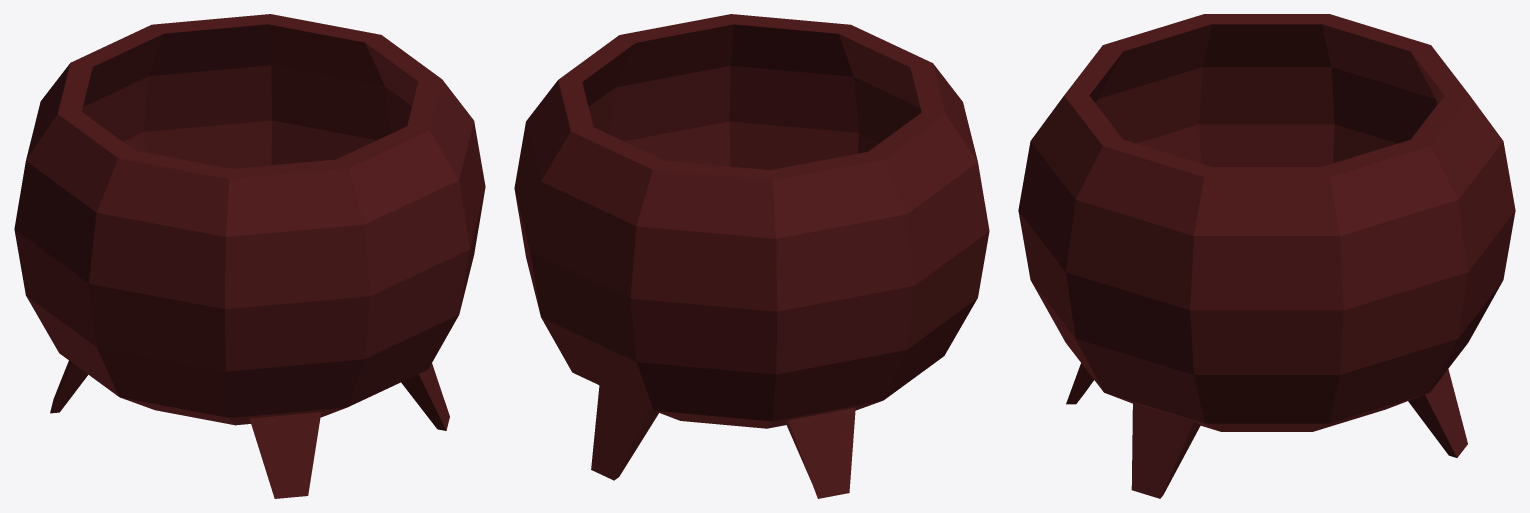
Rendered from Cauldron.fbx.
3 renders of one model, left to right at view 1: azimuth 30°, elevation 25°; view 2: azimuth 150°, elevation 25°; view 3: azimuth 270°, elevation 25°, orthographic. The views are drawn at different scales.
Parts seen in each view (by area): view 1: Cauldron; view 2: Cauldron; view 3: Cauldron.
Part boxes in pixels (x1,y1,x2,y2): Cauldron: (14,14,485,498); Cauldron: (514,14,989,498); Cauldron: (1018,14,1515,498).
Bounding box in the file's own units: 1117 × 856 × 1174.
